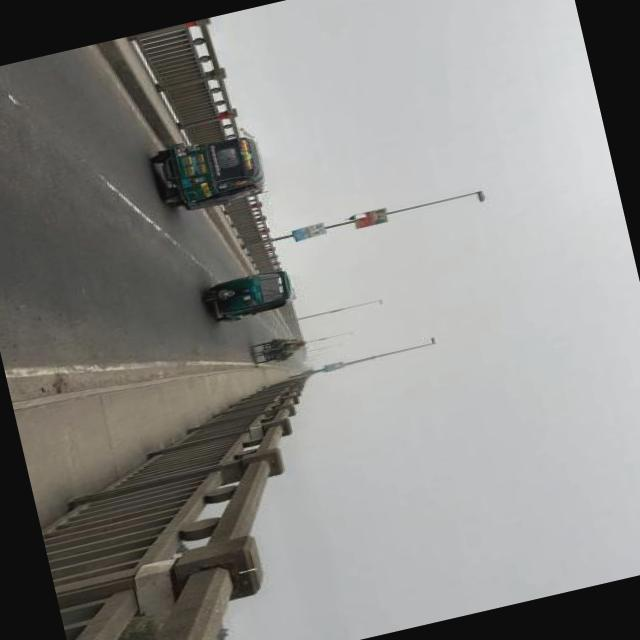motorcycle: (151, 124, 270, 217), (201, 264, 298, 326)
